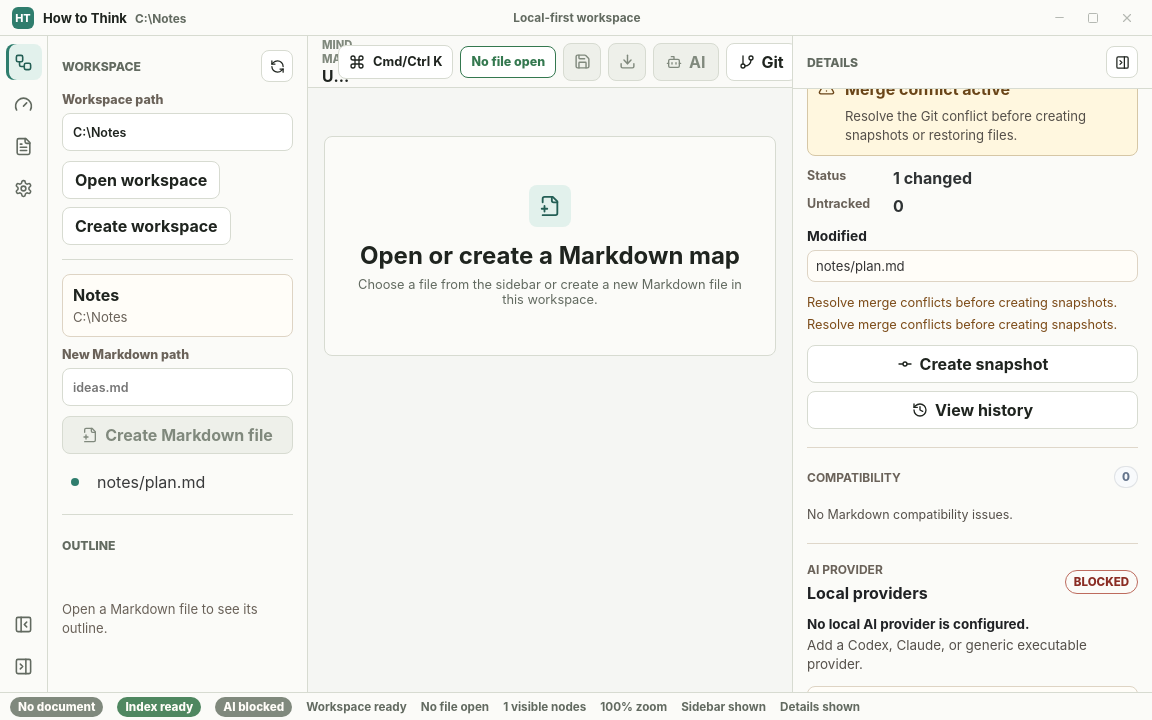
Test: App workspace lifecycle › surfaces blocked Git repository states and disables snapshot creation
(page scrolled)
Check: the text "Merge conflict active" is shown, box [845,79,1010,99]
Check: the text "Resolve the Git conflict before creating snapshots or restoring files." is shown, box [845,107,1127,145]
Click the button "Create snapshot": {"x": 972, "y": 364} [807,345,1138,383]
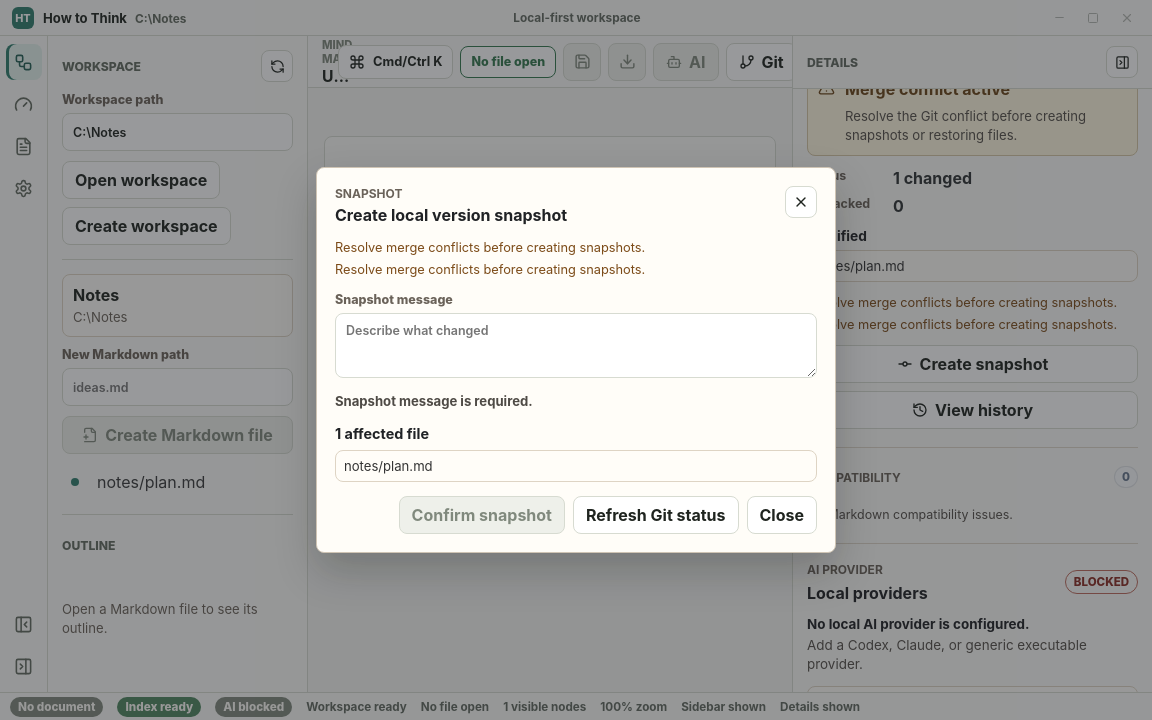
Check: the dialog named "create git snapshot" is shown, box [316,167,836,553]
Check: the button "Confirm snapshot" is disabled, box [399,496,565,534]
